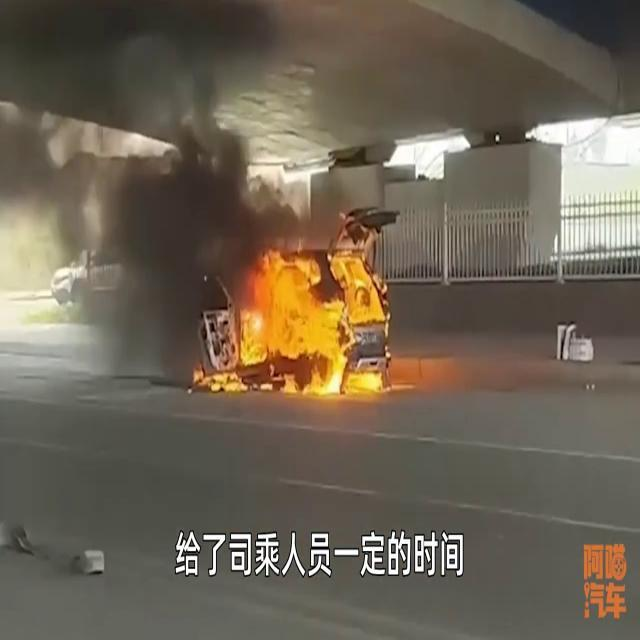Fire: (199, 234, 399, 398)
Smoke: (0, 0, 281, 365)
